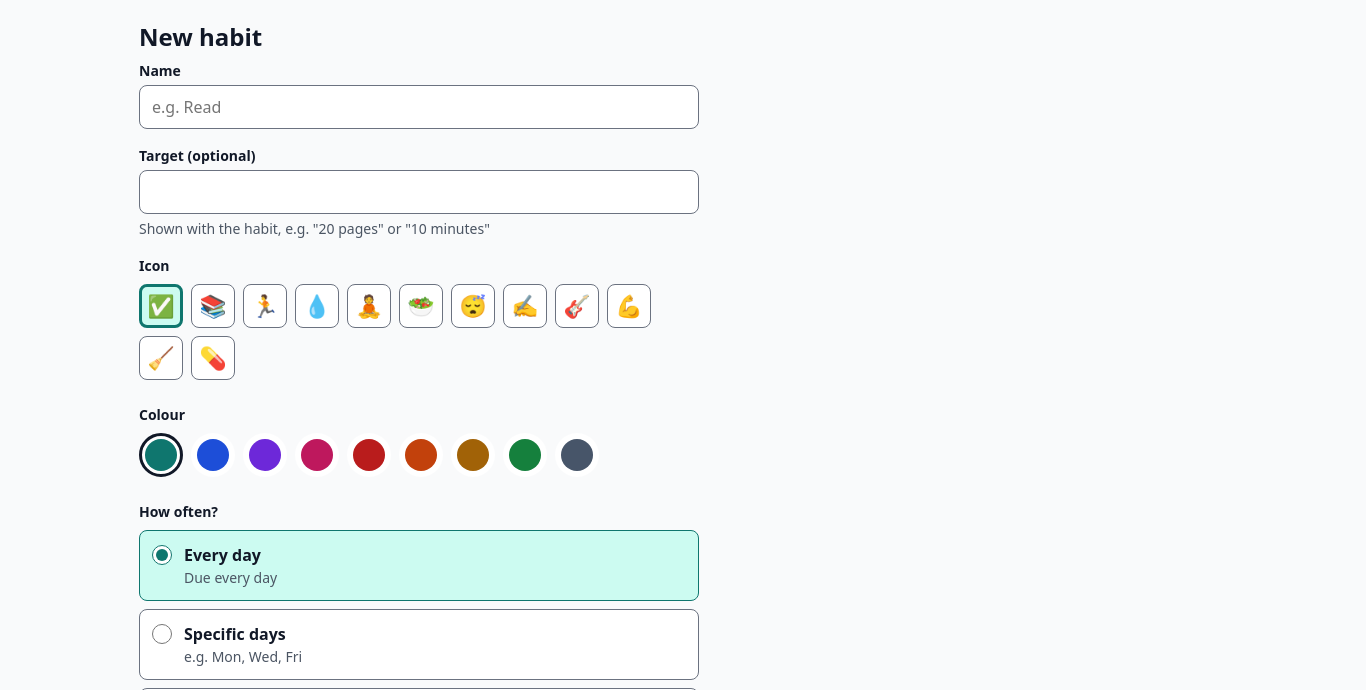
it: NewHabitPage › creates a daily habit and goes back to the list with a message
Expected: the heading "New habit" is shown, [139, 20, 262, 53]
Type "  Read  " into the field labelled "Name".
click(419, 107); type("  Read  ")  # box [140, 87, 698, 127]
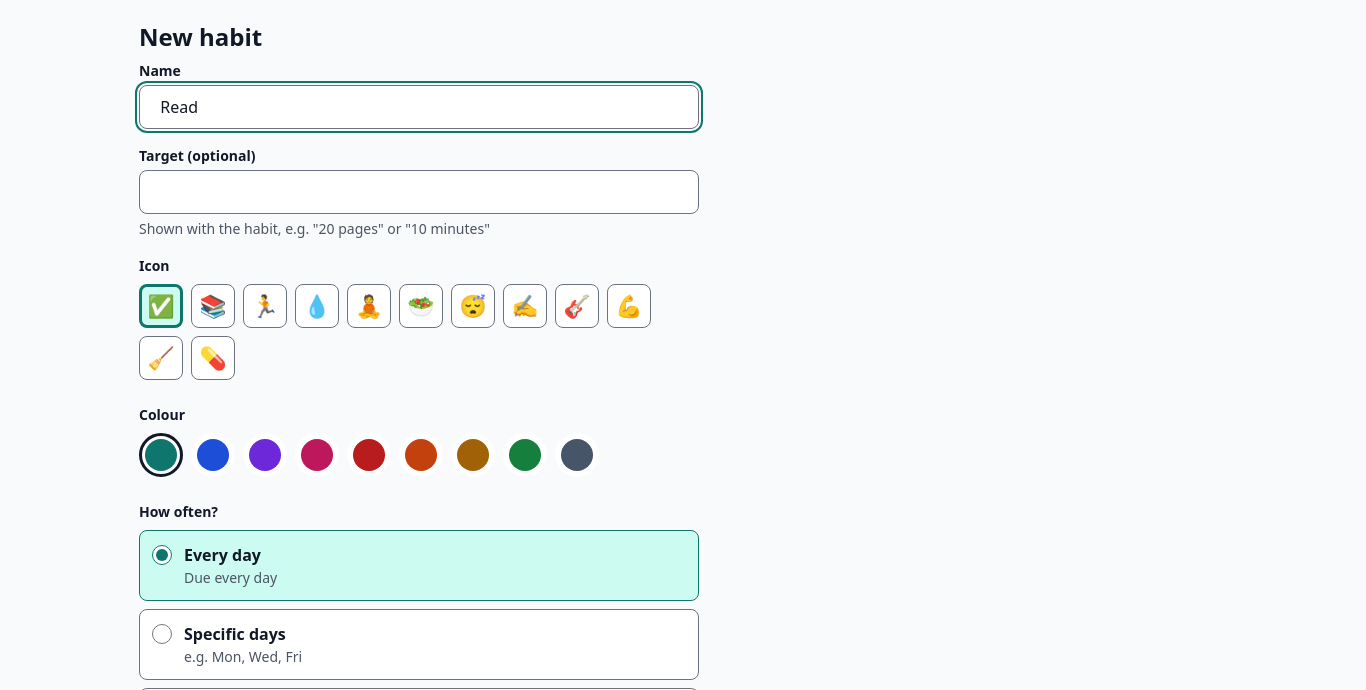
Type "20 pages" into the field labelled "Target (optional)".
click(419, 192); type("20 pages")  # box [140, 172, 698, 212]
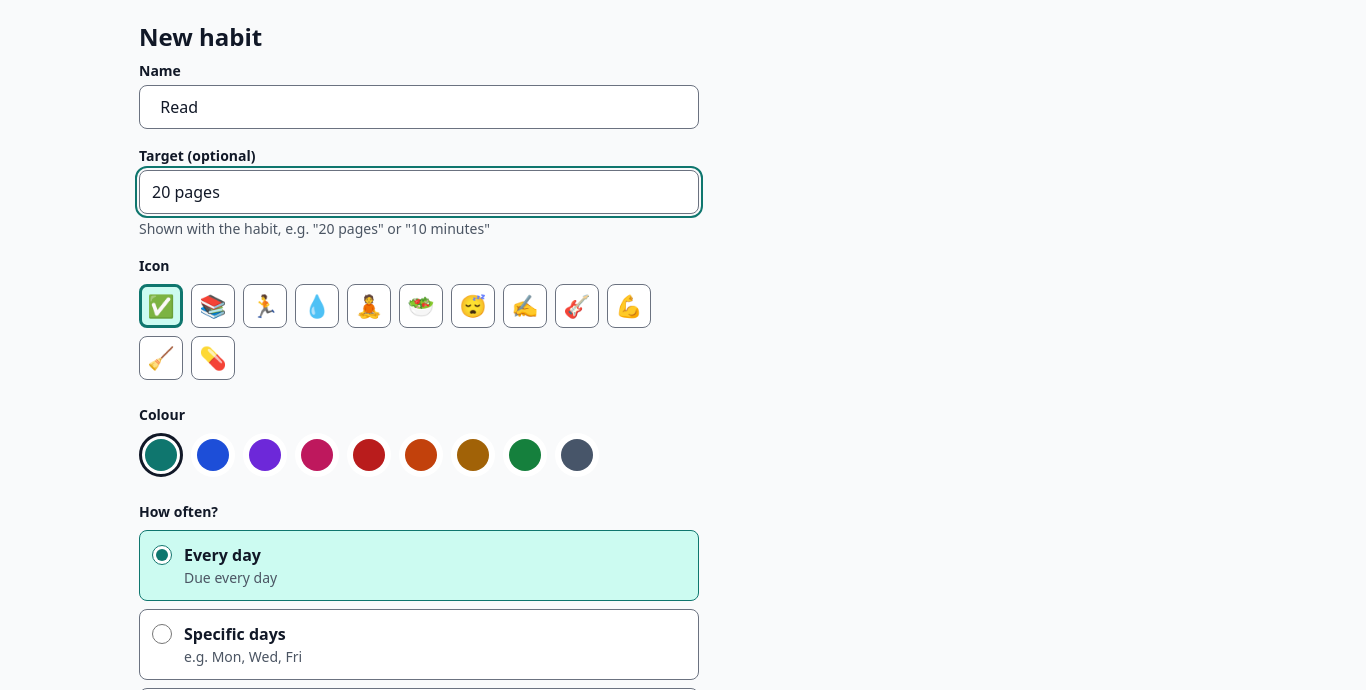
Click the radio button named "Books".
click(213, 306)  # box [191, 284, 235, 328]
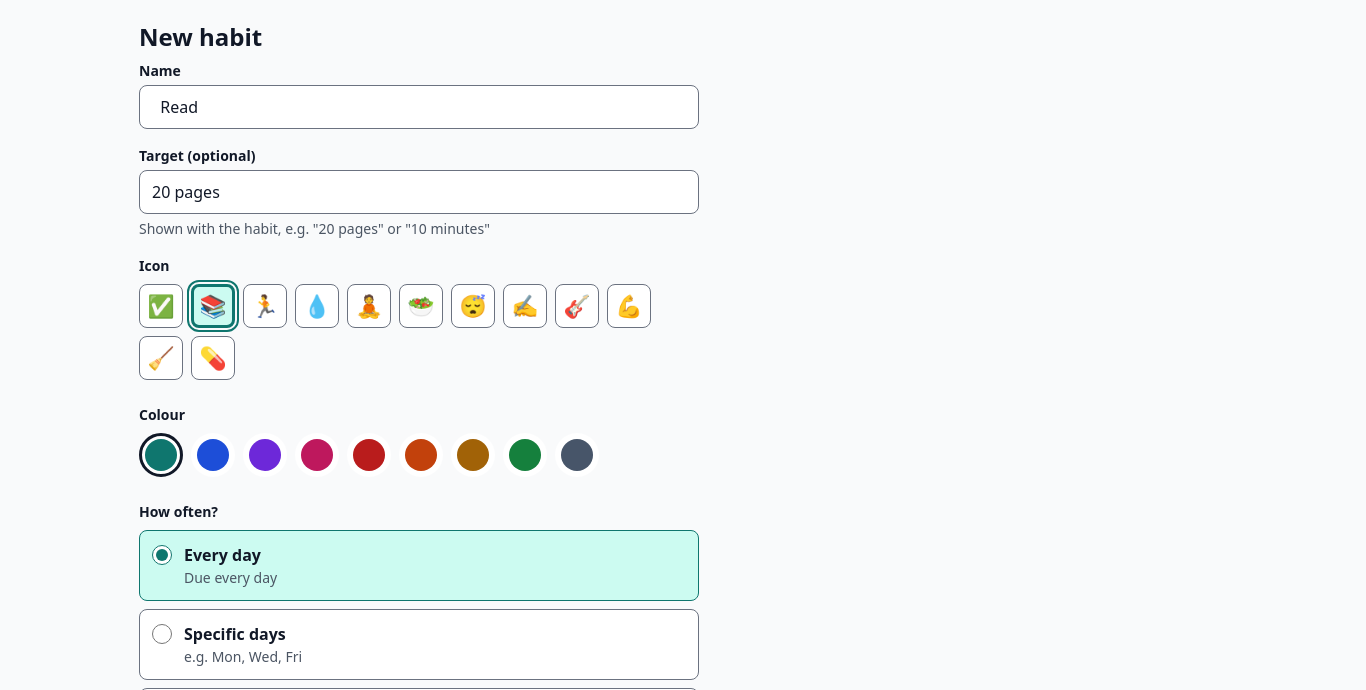
Click the radio button named "Blue".
click(213, 455)  # box [191, 433, 235, 477]
(page scrolled)
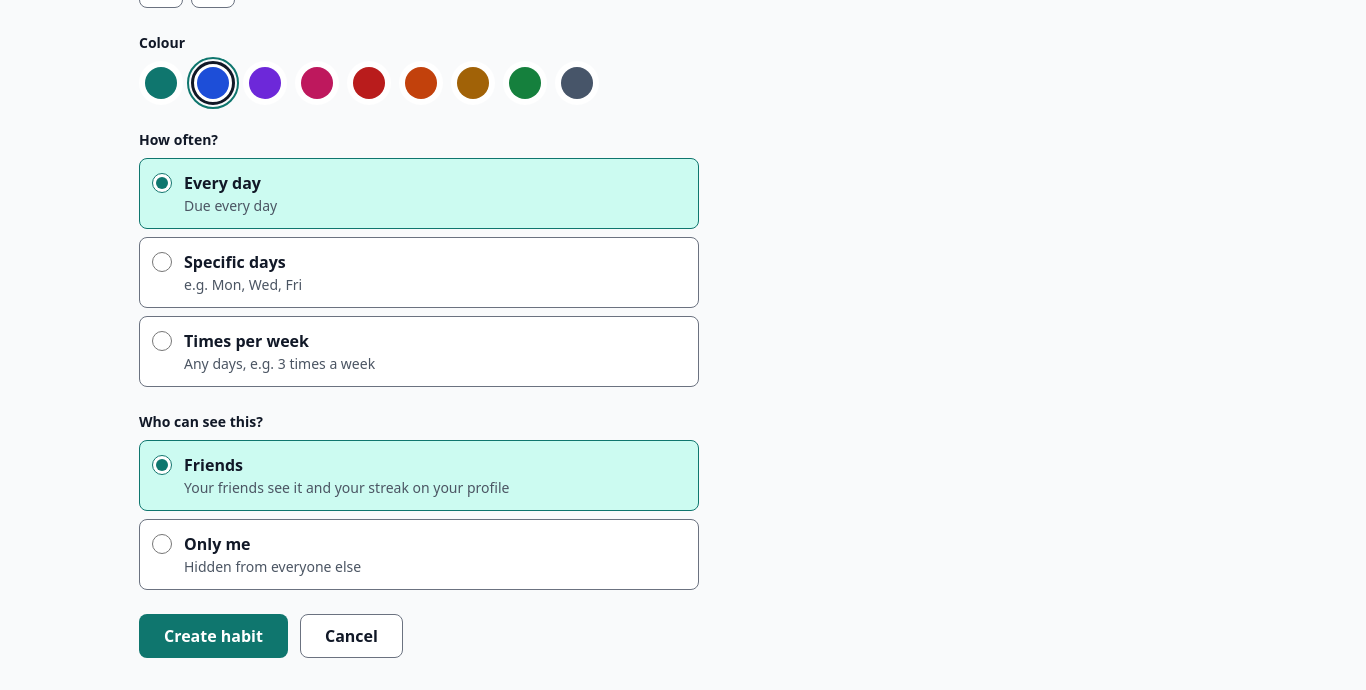
Click the button "Create habit".
click(214, 636)  # box [139, 614, 288, 658]
(page scrolled)
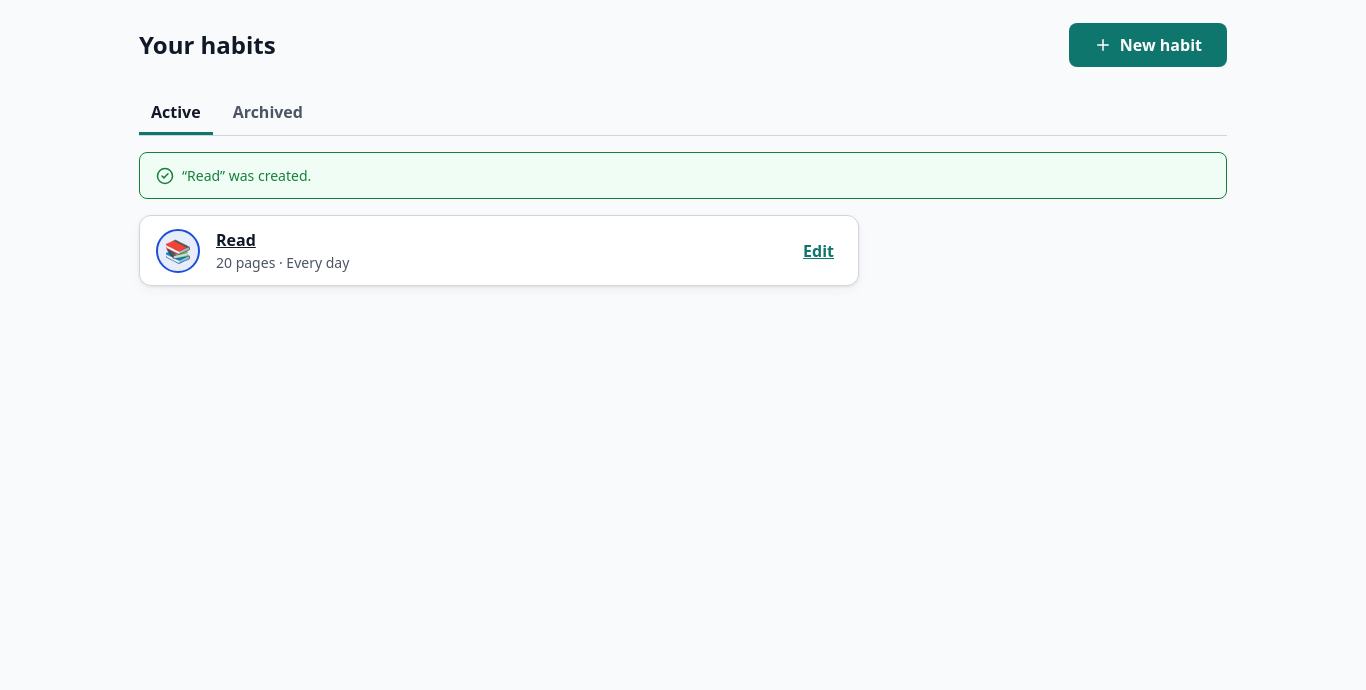
Expected: the heading "Your habits" is shown, [139, 31, 276, 59]
Expected: the message reads "“Read” was created.", [182, 166, 311, 185]
